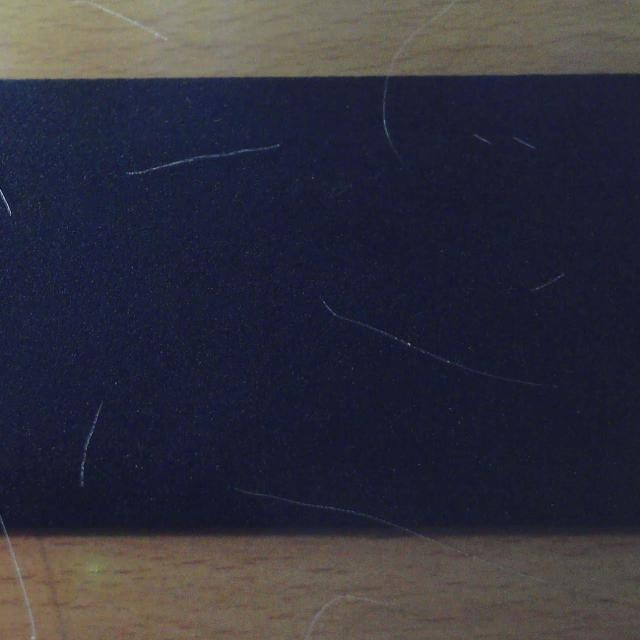defect: (320, 297, 546, 394), (230, 487, 419, 535), (127, 134, 283, 184), (71, 395, 109, 489), (378, 76, 407, 168), (528, 268, 569, 298), (513, 130, 538, 155), (474, 125, 494, 153), (0, 187, 16, 220), (0, 508, 13, 528)
